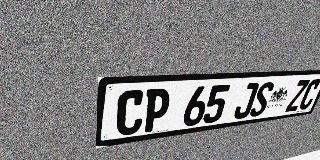5: (202, 84, 231, 124)
6: (182, 86, 211, 127)
C: (115, 89, 146, 137), (297, 79, 320, 110)
J: (232, 83, 260, 120)
P: (142, 88, 172, 133)
S: (248, 82, 275, 117)
Z: (285, 80, 310, 112)
